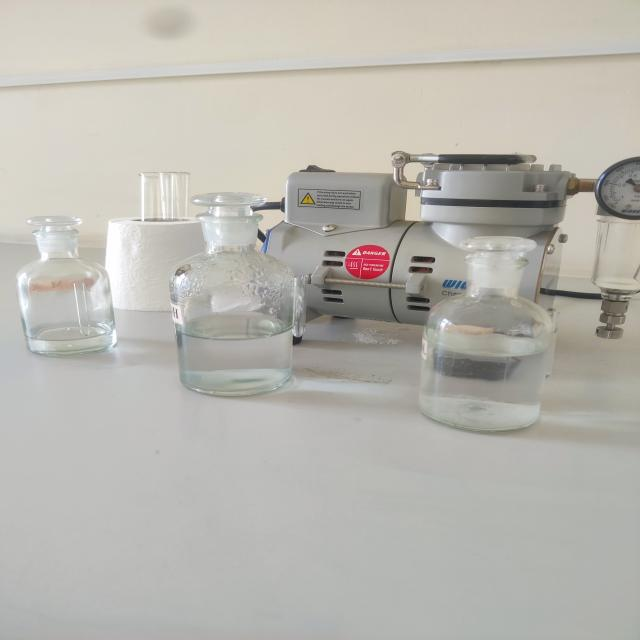Reagent_Bottle: (384, 191, 590, 463), (154, 178, 331, 417), (0, 203, 127, 385)
